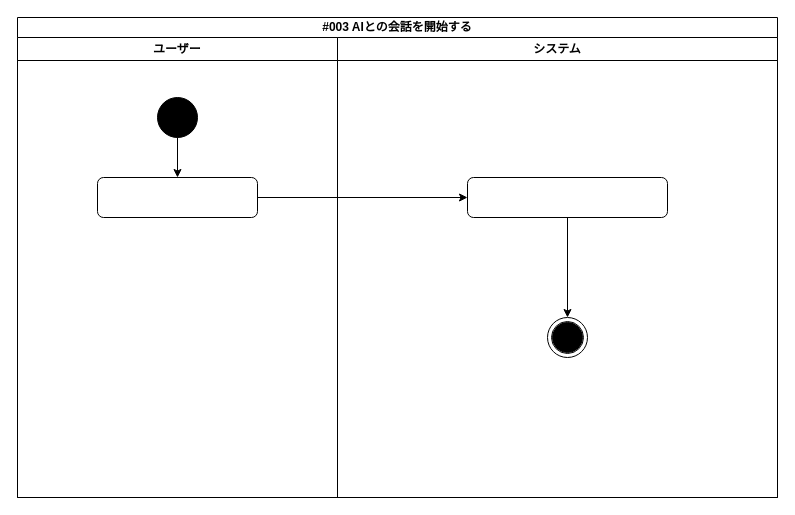
Image size: 795x515. Some labels were removed from this diagram. The centre of each missing label's shape, as x and y in pixels:
"「AIと会話する画面」を表示する" goes at pixel 567 197.
"「感情分析AIと会話する」 を選択する" goes at pixel 177 197.
